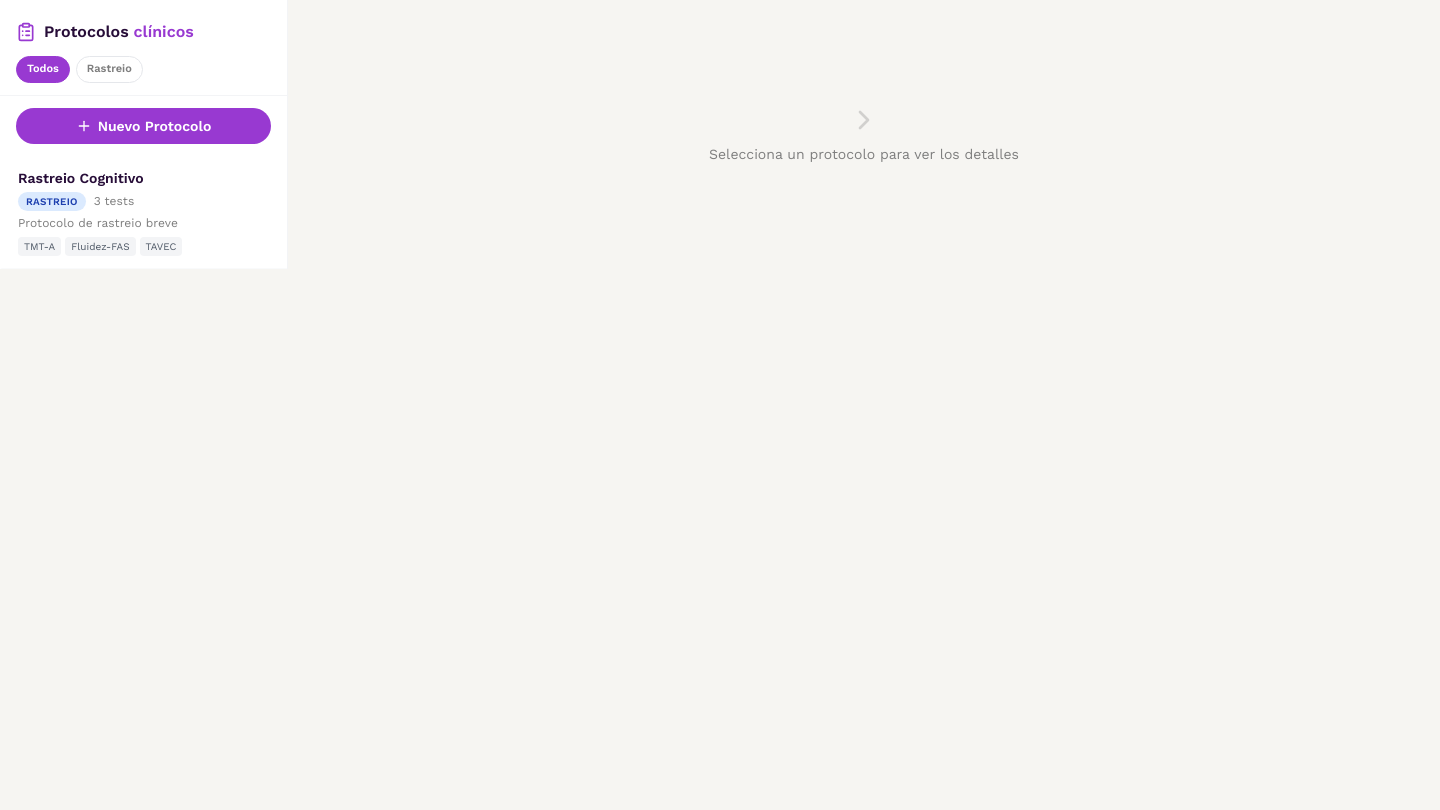
Test case: ProtocolLibrary › opens create modal on Nuevo Protocolo button click
Expected: the text "Rastreio Cognitivo" is shown, [18, 170, 144, 186]
Click the button "Nuevo Protocolo" at coordinates (144, 126), box [16, 108, 271, 144]
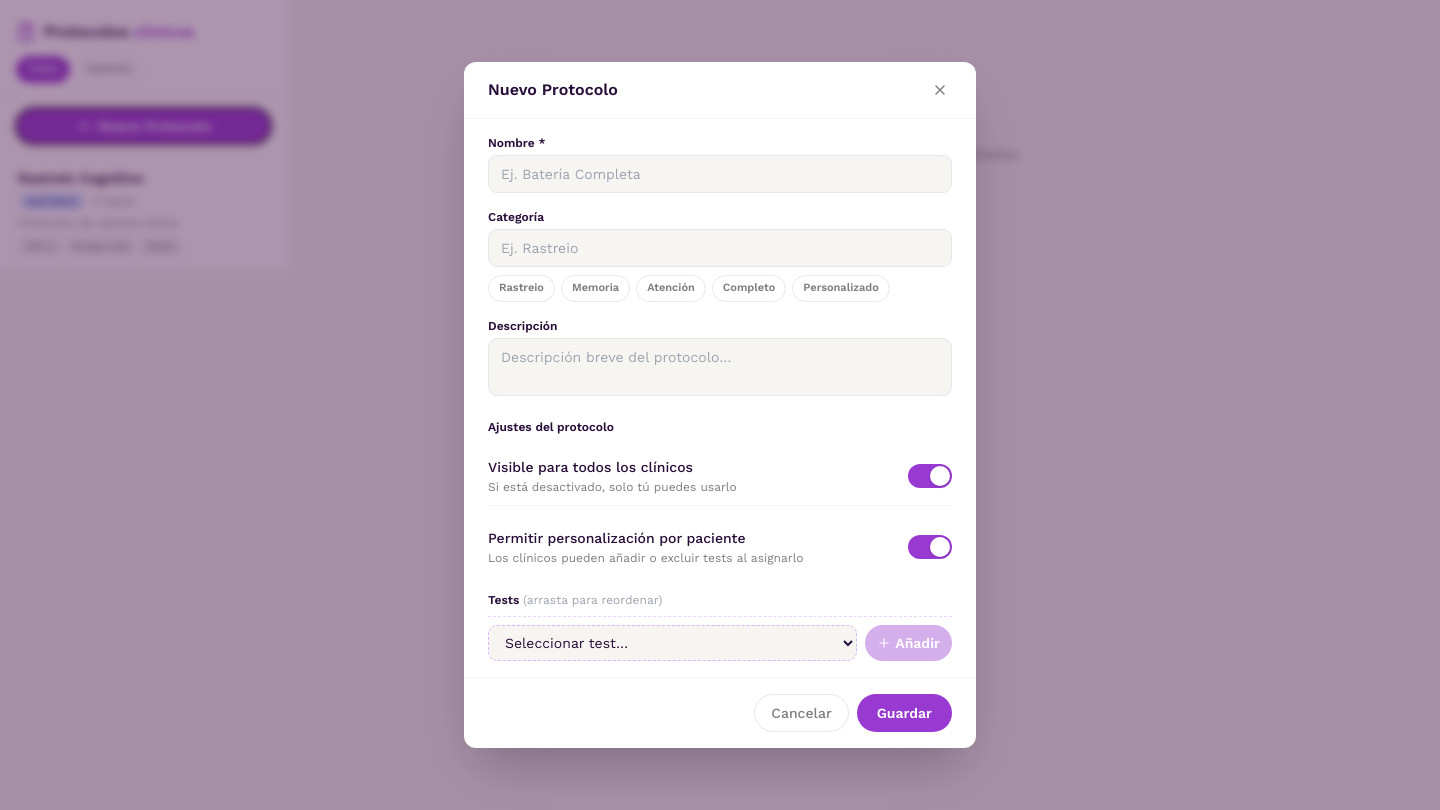
Expected: the heading "Nuevo Protocolo" is shown, [488, 78, 618, 102]
